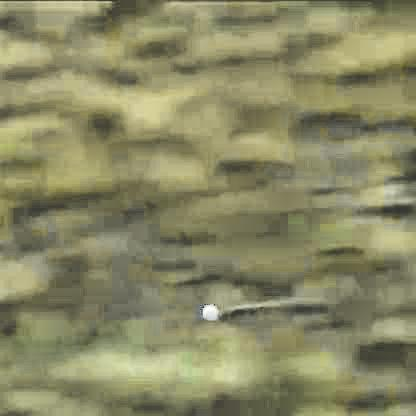golfball: (199, 301, 215, 317)
